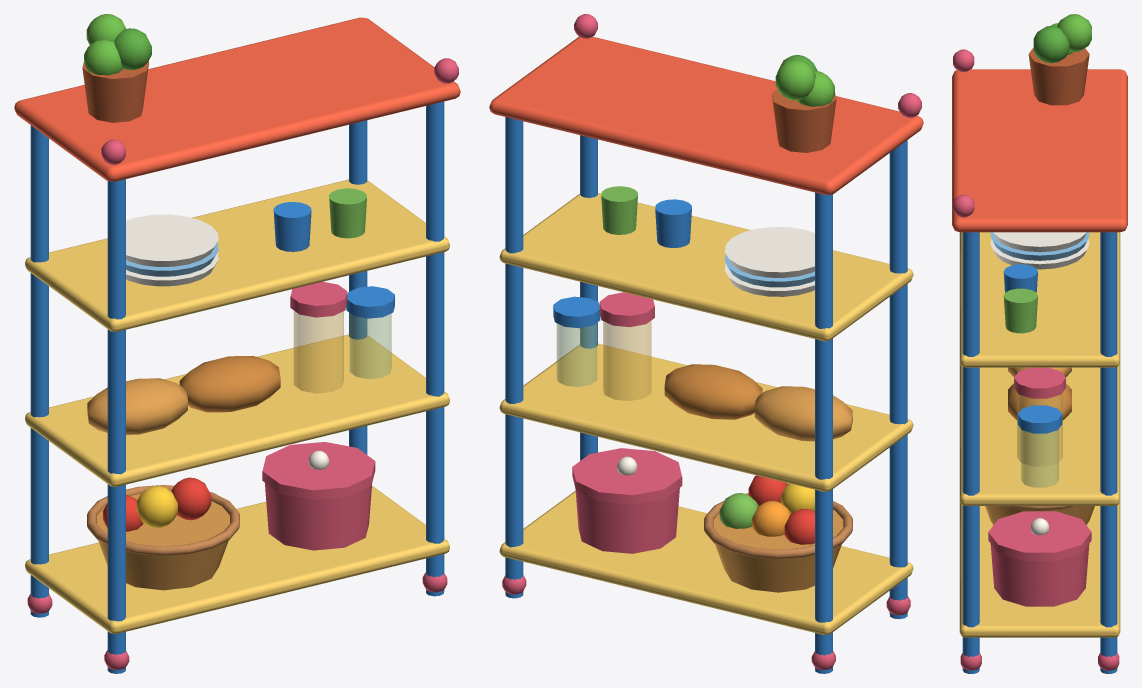
Rendered from bakerack.glb.
3 views of the same model, side by side, from view 1: azimuth 30°, elevation 25°; view 2: azimuth 150°, elevation 25°; view 3: azimuth 270°, elevation 25° (orthographic). The views are drawn at different scales.
Bounding box in the file's own units: 0.96 × 1.55 × 0.46.
